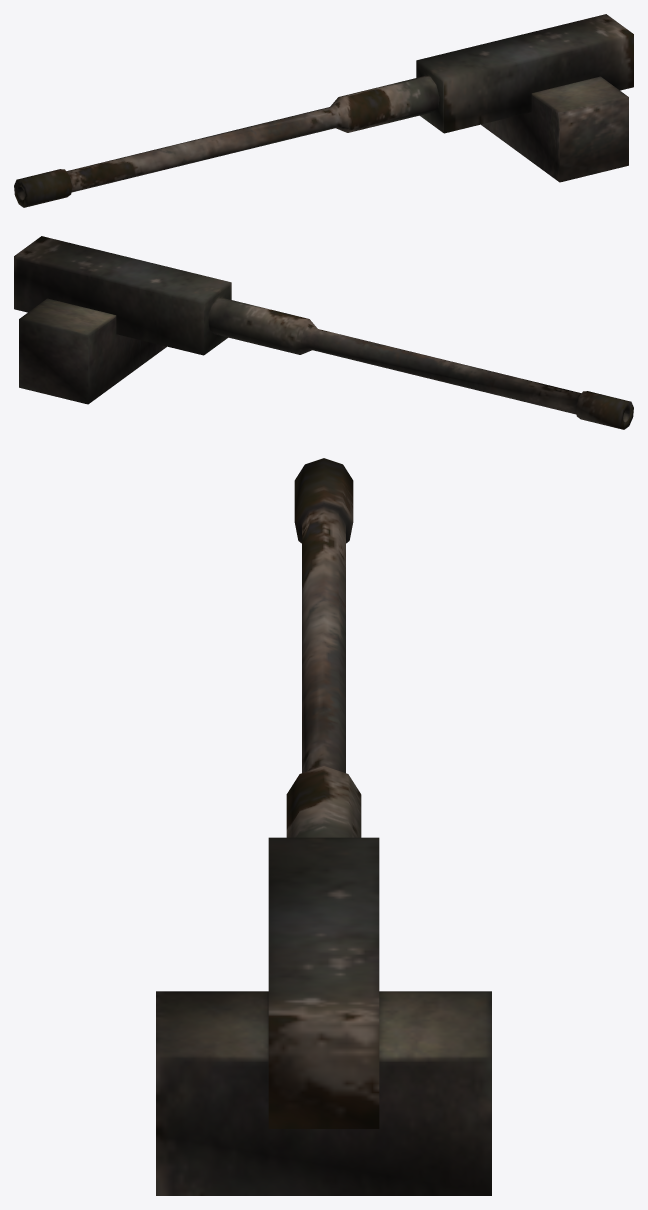
File: Gun.FBX
3 views of the same model, one above another, from view 1: azimuth 30°, elevation 25°; view 2: azimuth 150°, elevation 25°; view 3: azimuth 270°, elevation 25° (orthographic). The views are drawn at different scales.
Parts seen in each view (by area): view 1: Gun; view 2: Gun; view 3: Gun.
Part boxes in pixels (bbox=[...]): Gun: bbox=[14, 14, 633, 207]; Gun: bbox=[14, 236, 633, 429]; Gun: bbox=[156, 458, 491, 1195].
Size of the model in its own units: 15.48 by 2.54 by 3.76.
1 material, 1 textured.
